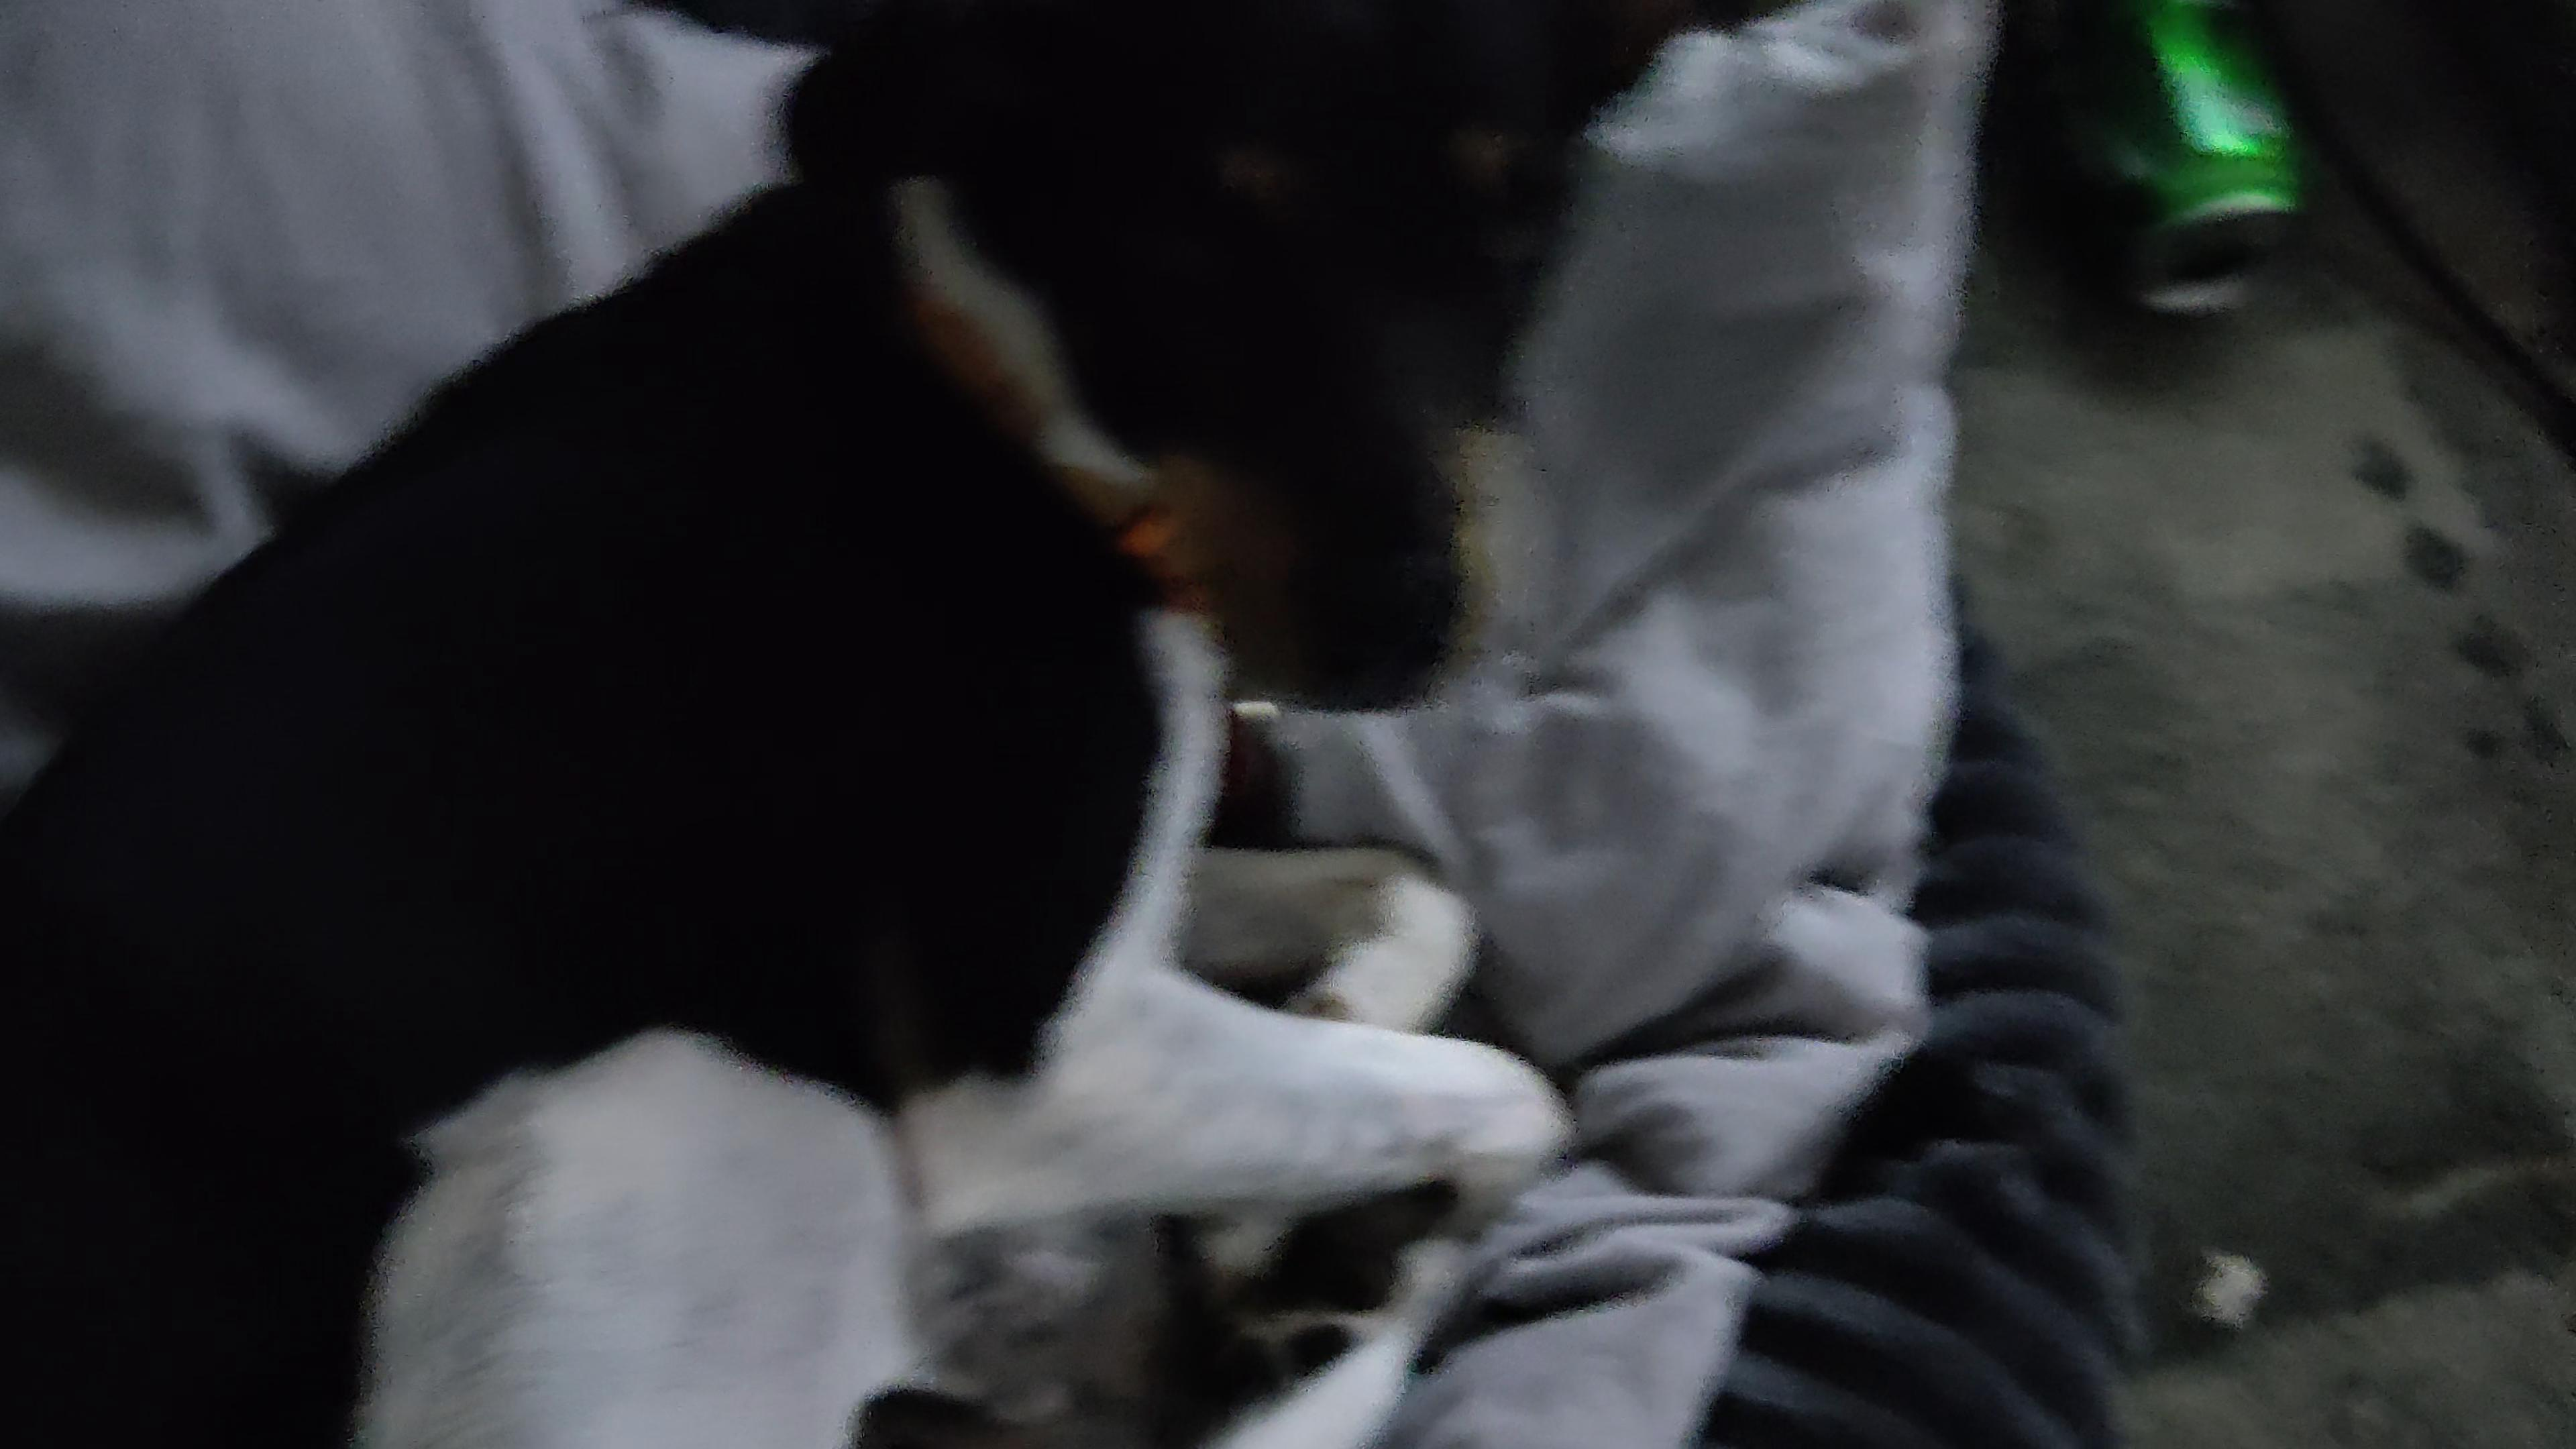Dog: (0, 0, 1828, 1449)
